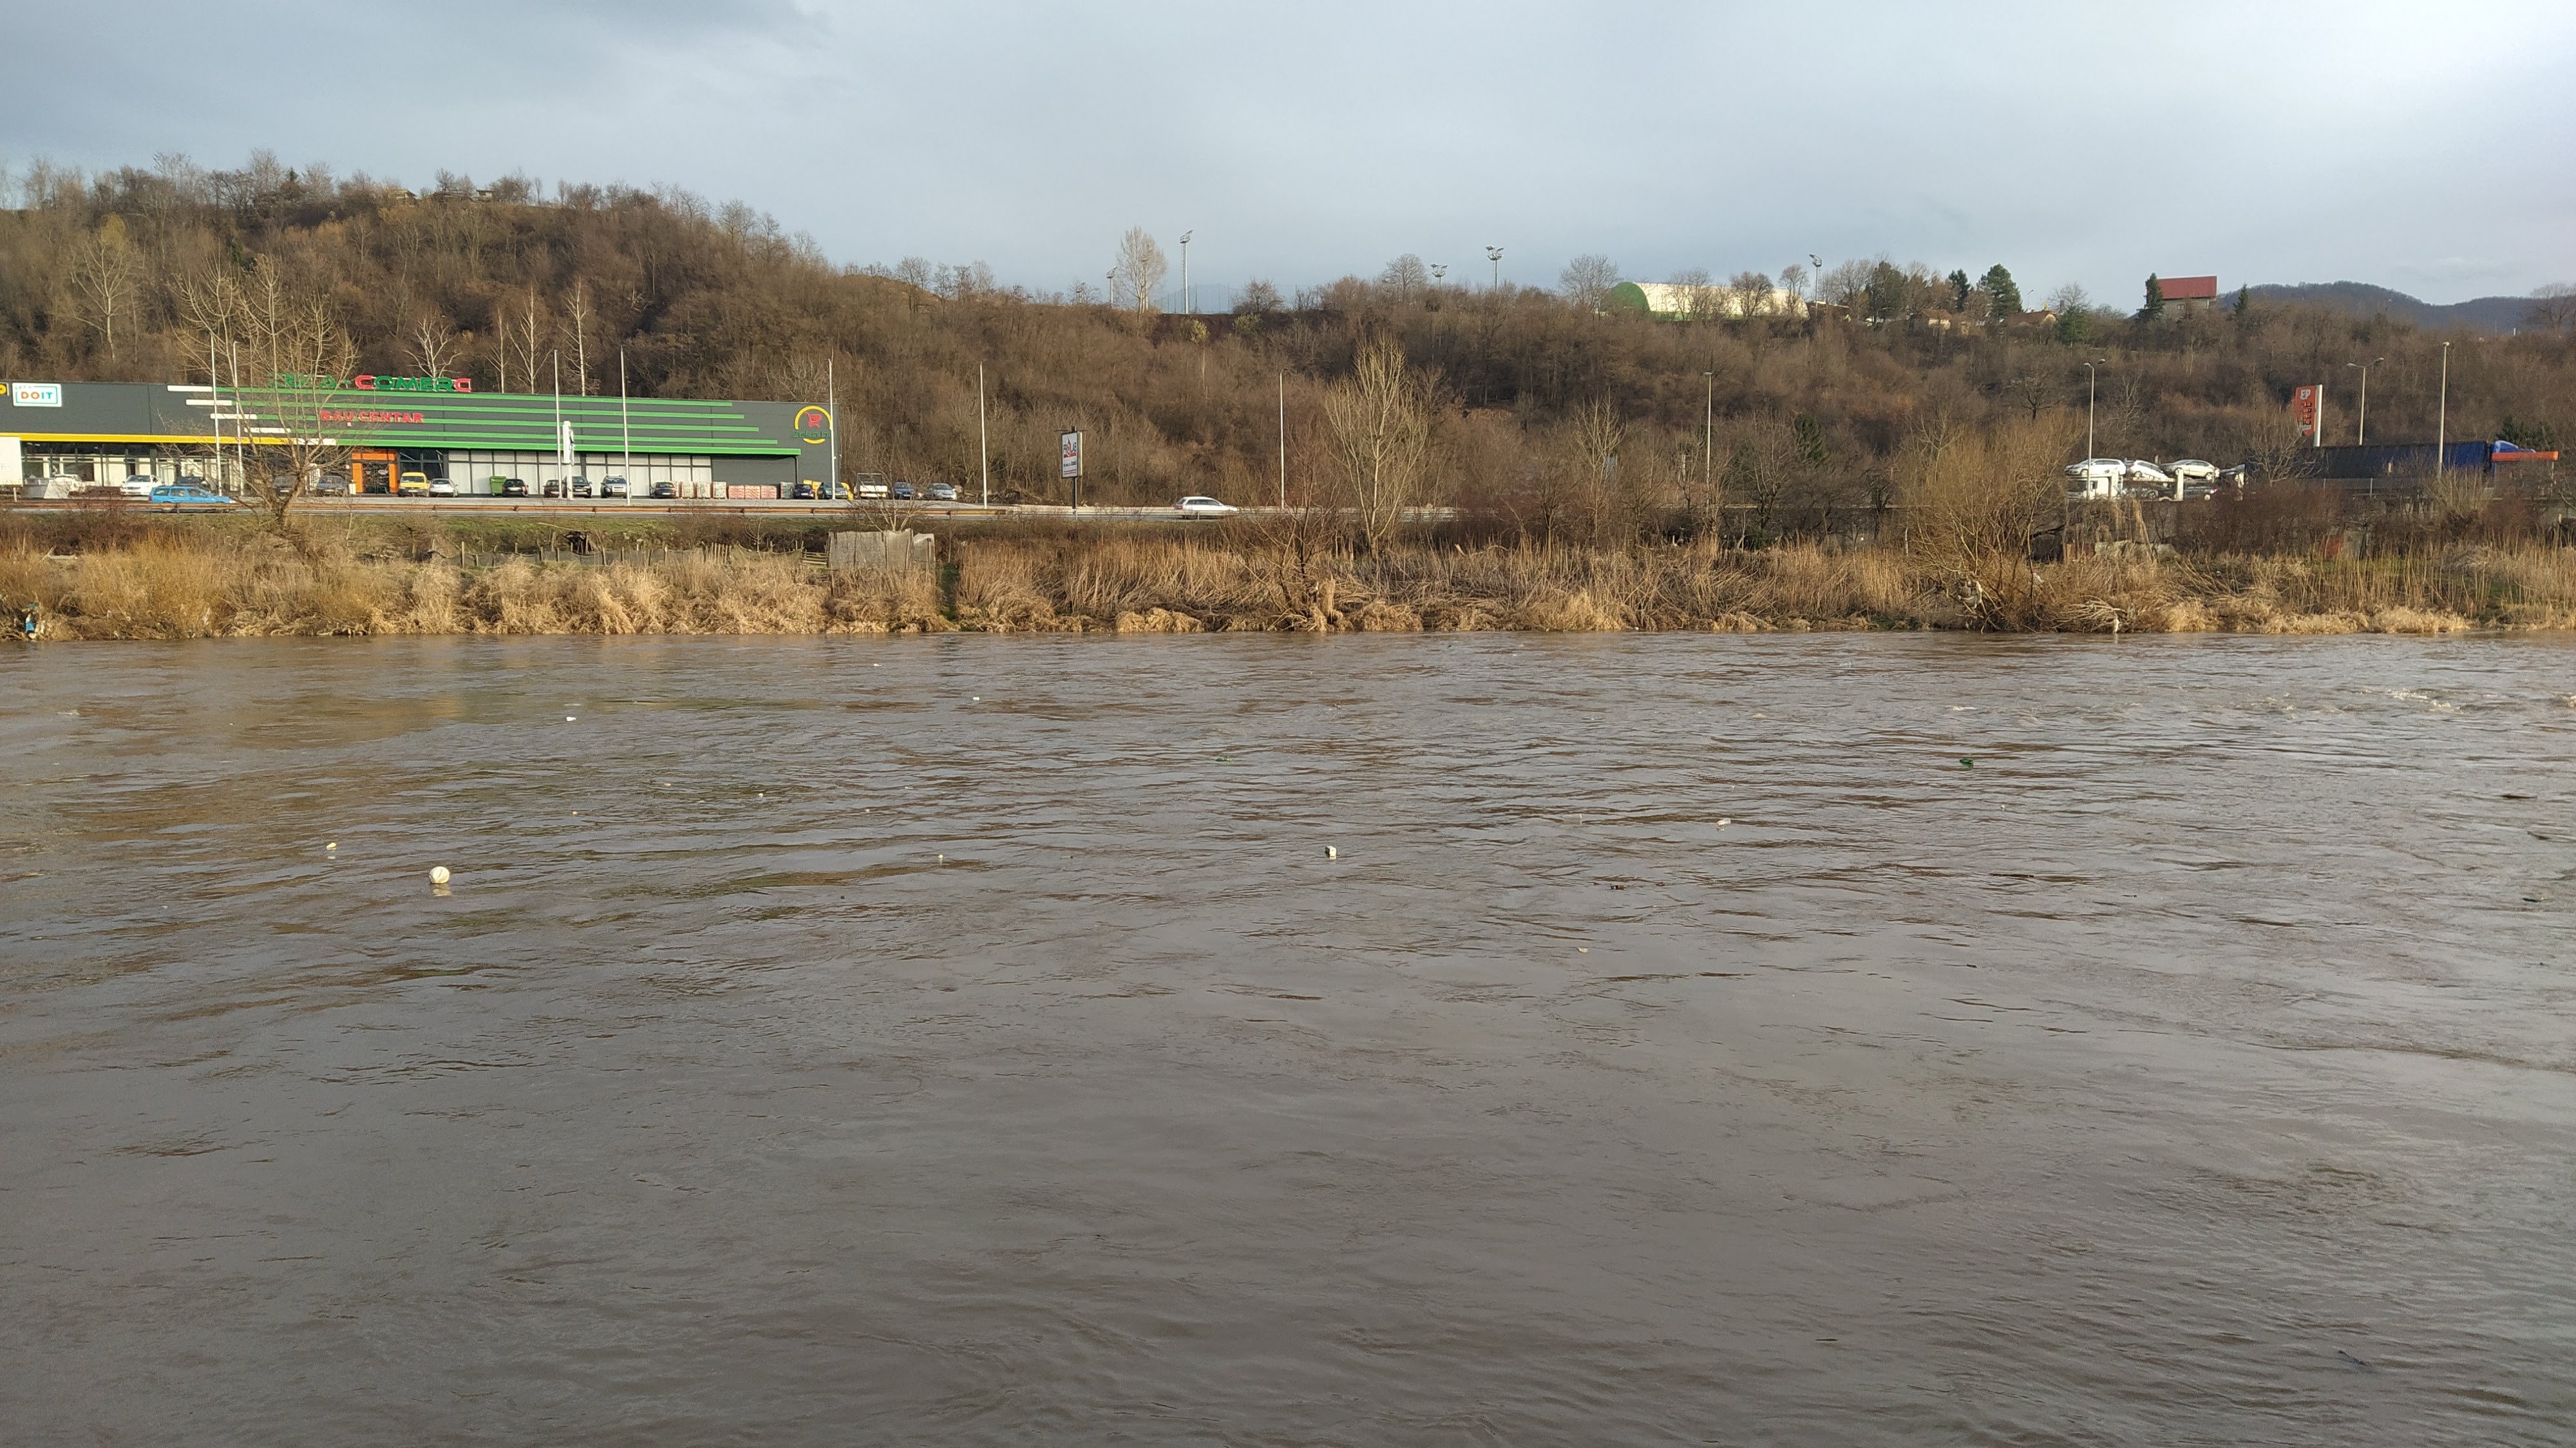Plastic Bottle: (55, 708, 78, 715), (1325, 844, 1338, 857), (1560, 813, 1582, 820), (1716, 818, 1730, 825), (1960, 758, 1973, 765), (1838, 660, 1854, 666), (1215, 756, 1230, 761), (327, 843, 336, 850), (1610, 885, 1624, 889), (1656, 882, 1665, 887), (566, 717, 577, 720), (1060, 855, 1070, 859), (973, 696, 978, 701)
